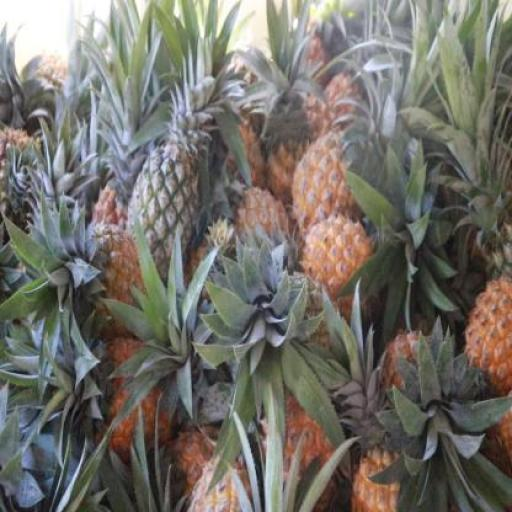Pineapple - v8 v1: (291, 135, 363, 237), (301, 218, 373, 306)
